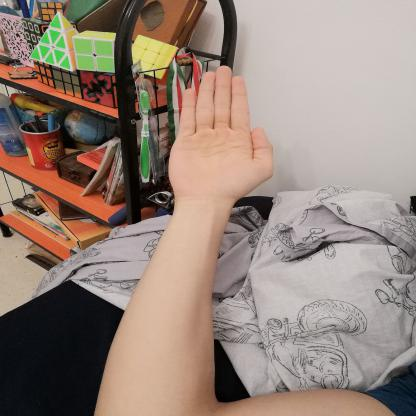SEEN: (160, 59, 281, 213)
